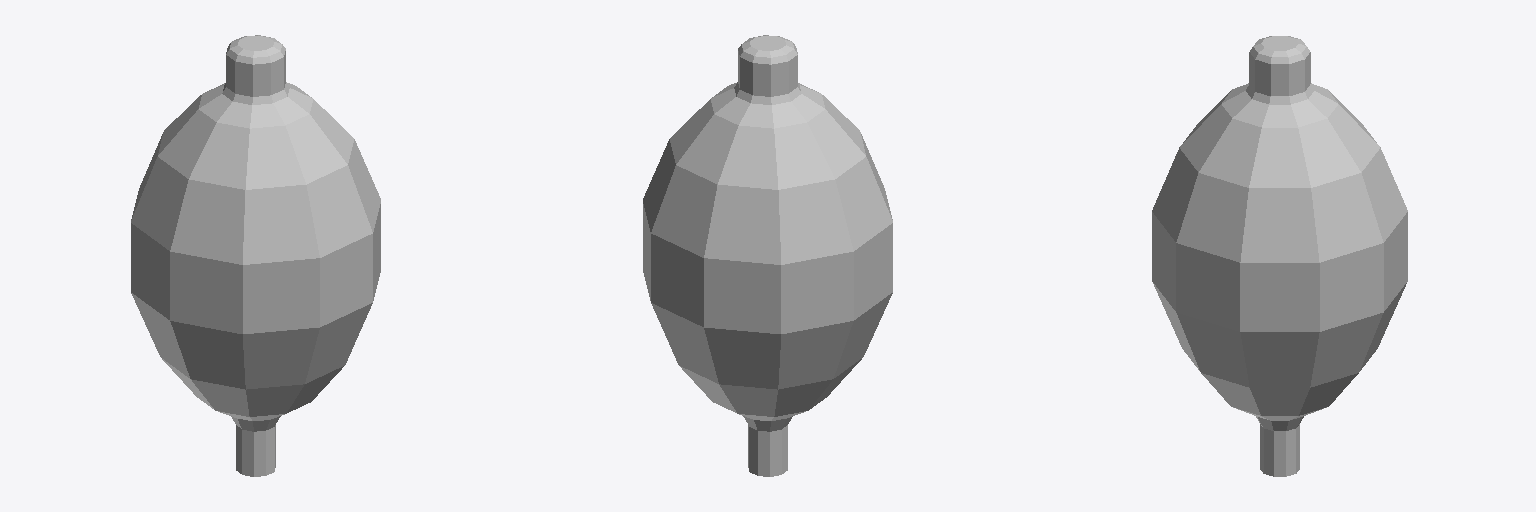
File: glass.obj
3 renders of one model, left to right at view 1: azimuth 30°, elevation 25°; view 2: azimuth 150°, elevation 25°; view 3: azimuth 270°, elevation 25°, orthographic.
Parts seen in each view (by area): view 1: Circle_Circle.006; view 2: Circle_Circle.006; view 3: Circle_Circle.006.
Part boxes in pixels (left/top/right/bottom): Circle_Circle.006: left=131, top=35, right=380, bottom=476; Circle_Circle.006: left=643, top=35, right=892, bottom=476; Circle_Circle.006: left=1152, top=36, right=1407, bottom=476.
Bounding box in the file's own units: 0.8022 × 1.54 × 0.8435.